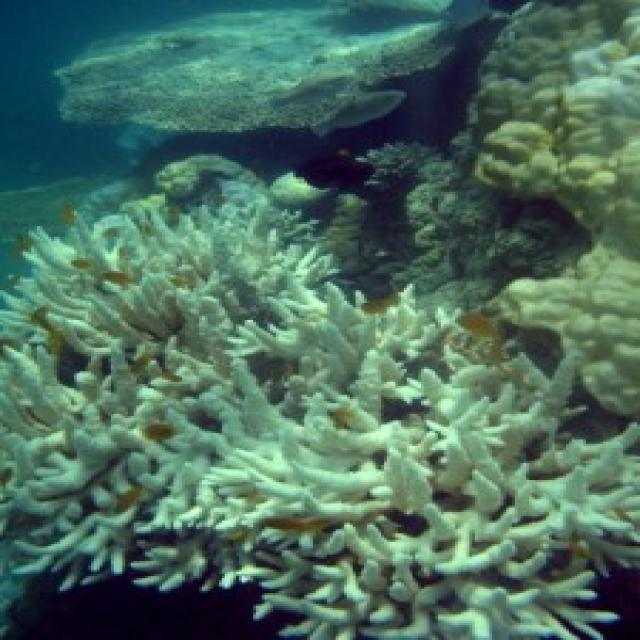Bleached: (1, 187, 638, 639), (476, 1, 638, 417), (58, 1, 462, 133), (567, 37, 640, 114)
